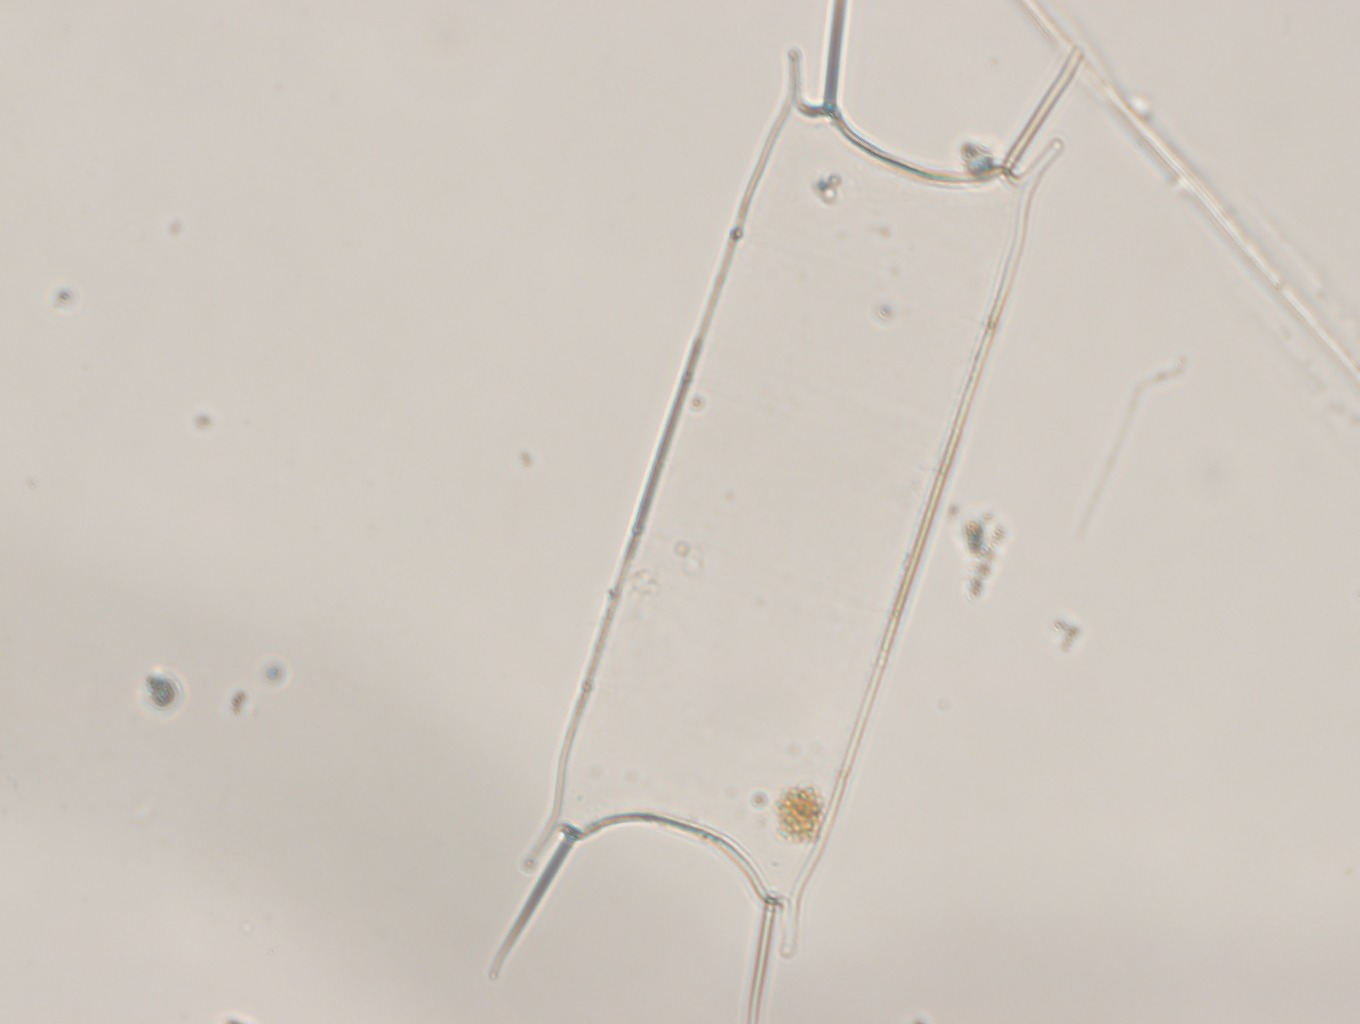biddulphia: (486, 3, 1088, 1024)
